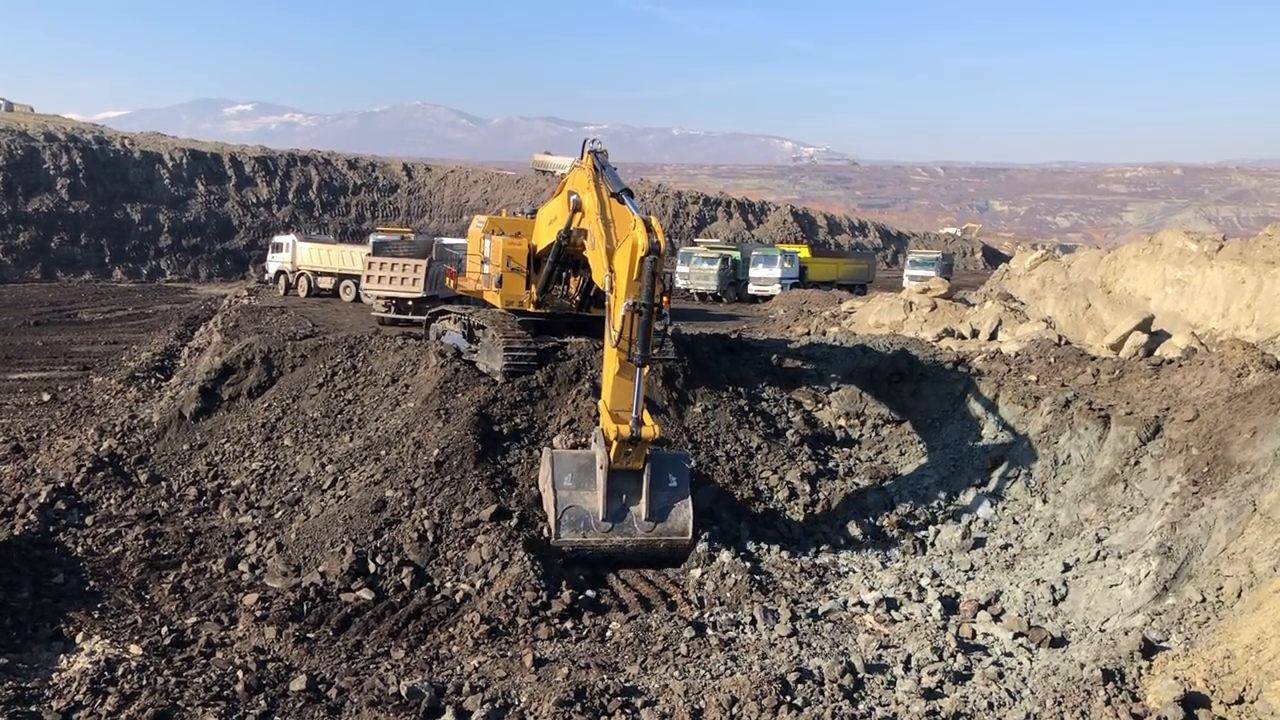full: (537, 427, 699, 551)
